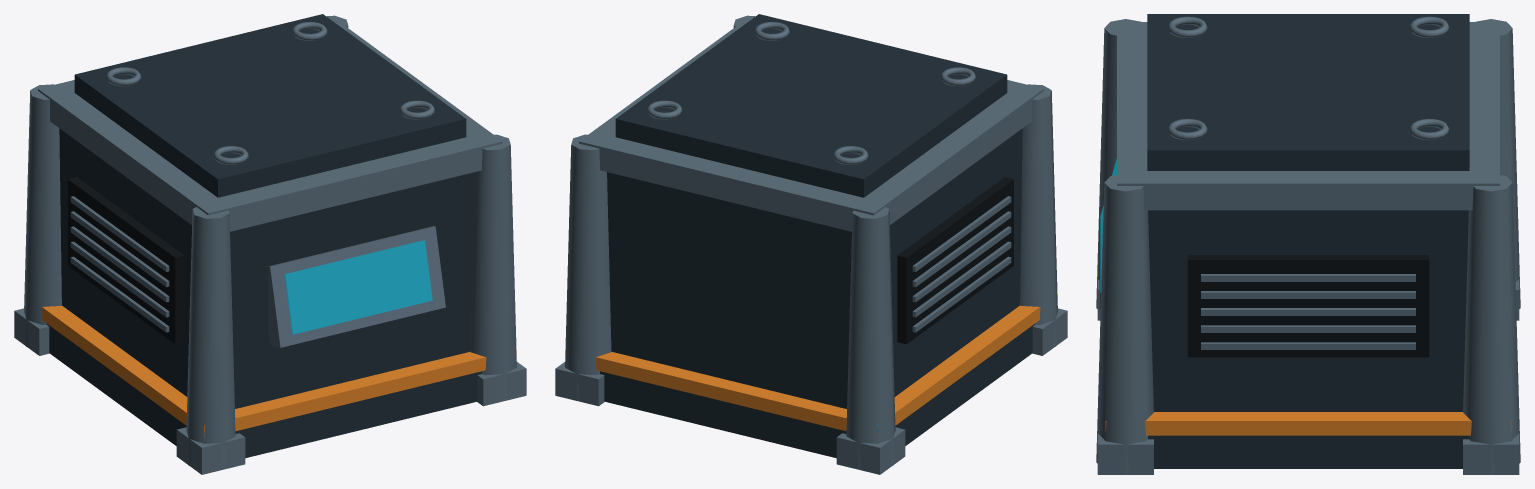
The model's file is heavy-cover.glb.
The picture shows the model from 3 angles, left to right: view 1: azimuth 30°, elevation 25°; view 2: azimuth 150°, elevation 25°; view 3: azimuth 270°, elevation 25°; orthographic projection. The views are drawn at different scales.
Visible parts, largest first — view 1: SciFi_Heavy_Cover; view 2: SciFi_Heavy_Cover; view 3: SciFi_Heavy_Cover.
Boxes of the visible parts, x1,y1,x2,y2 form: SciFi_Heavy_Cover: [14, 14, 526, 474]; SciFi_Heavy_Cover: [555, 14, 1067, 474]; SciFi_Heavy_Cover: [1096, 14, 1520, 474].
Size of the model in its own units: 3.16 by 2.55 by 3.16.
